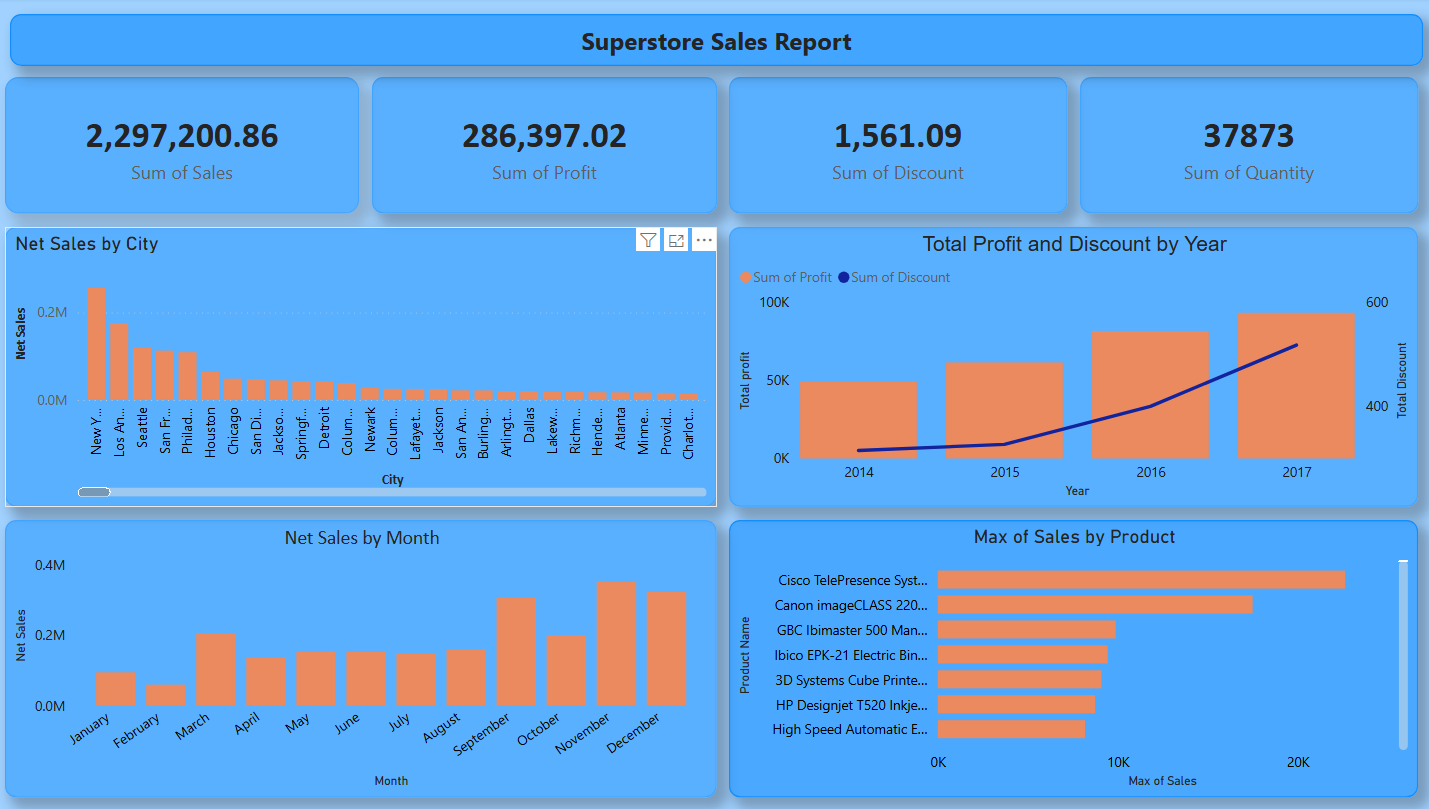

The dashboard page shown, as its layout file describes it:
{"tool":"powerbi","page":{"name":"Page 1","canvas":[1280,720],"ordinal":0},"visuals":[{"type":"card","title":"Total Sell","fields":{"Values":["Sum(Sample - Superstore.Sales)"]},"box":[8.9,70,313.9,120.6],"z":0},{"type":"card","fields":{"Values":["Sum(Sample - Superstore.Profit)"]},"box":[334.3,70,305.9,120.6],"z":1000},{"type":"card","fields":{"Values":["Sum(Sample - Superstore.Discount)"]},"box":[650.8,70,299.7,120.6],"z":2000},{"type":"card","fields":{"Values":["Sum(Sample - Superstore.Quantity)"]},"box":[962.1,70,299.7,120.6],"z":3000},{"type":"clusteredColumnChart","title":"Net Sales by City","fields":{"Category":["Sample - Superstore.City"],"Y":["Sum(Sample - Superstore.Sales)"]},"box":[8.9,203.1,631.3,248.3],"z":4000},{"type":"lineStackedColumnComboChart","title":"Total Profit and Discount by Year","fields":{"Y":["Sum(Sample - Superstore.Profit)"],"Category":["Sample - Superstore.Order Date.Variation.Date Hierarchy.Year"],"Y2":["Sum(Sample - Superstore.Discount)"]},"box":[650.8,203.1,610.9,248.3],"z":5000},{"type":"columnChart","title":"Net Sales by Month","fields":{"Y":["Sum(Sample - Superstore.Sales)"],"Category":["Sample - Superstore.Order Date.Variation.Date Hierarchy.Month"]},"box":[8.9,462.9,631.3,245.6],"z":5001},{"type":"barChart","title":"Max of Sales by Product","fields":{"Category":["Sample - Superstore.Product Name"],"Y":["Max(Sample - Superstore.Sales)"]},"box":[651,463,611,246],"z":5002},{"type":"textbox","title":"Superstore Sales report","box":[13.3,14.2,1252.9,46.1],"z":5003}]}

Visuals, with their boxes in screenshot pixels (x1, y1, x2, y2), scaled from the page's 1280x720 canvas onto the 1429x809 screenshot:
"Total Sell" card: [10, 79, 360, 214]
card - Sum(Sample - Superstore.Profit): [373, 79, 715, 214]
card - Sum(Sample - Superstore.Discount): [727, 79, 1061, 214]
card - Sum(Sample - Superstore.Quantity): [1074, 79, 1409, 214]
"Net Sales by City" clusteredColumnChart: [10, 228, 715, 507]
"Total Profit and Discount by Year" lineStackedColumnComboChart: [727, 228, 1409, 507]
"Net Sales by Month" columnChart: [10, 520, 715, 796]
"Max of Sales by Product" barChart: [727, 520, 1409, 797]
"Superstore Sales report" textbox: [15, 16, 1414, 68]
